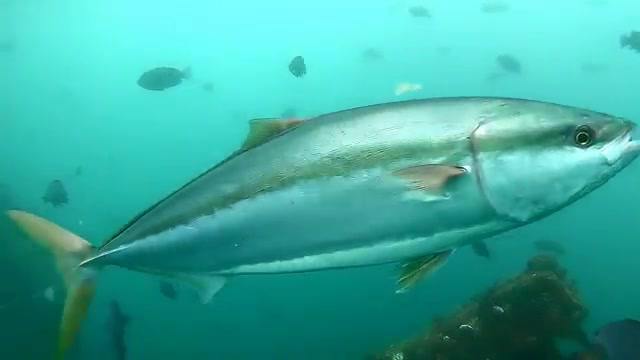hamati: (9, 68, 639, 357)
smallfish: (135, 60, 197, 103), (288, 54, 310, 82)
